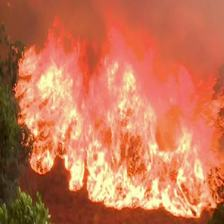fire: (16, 41, 210, 219)
